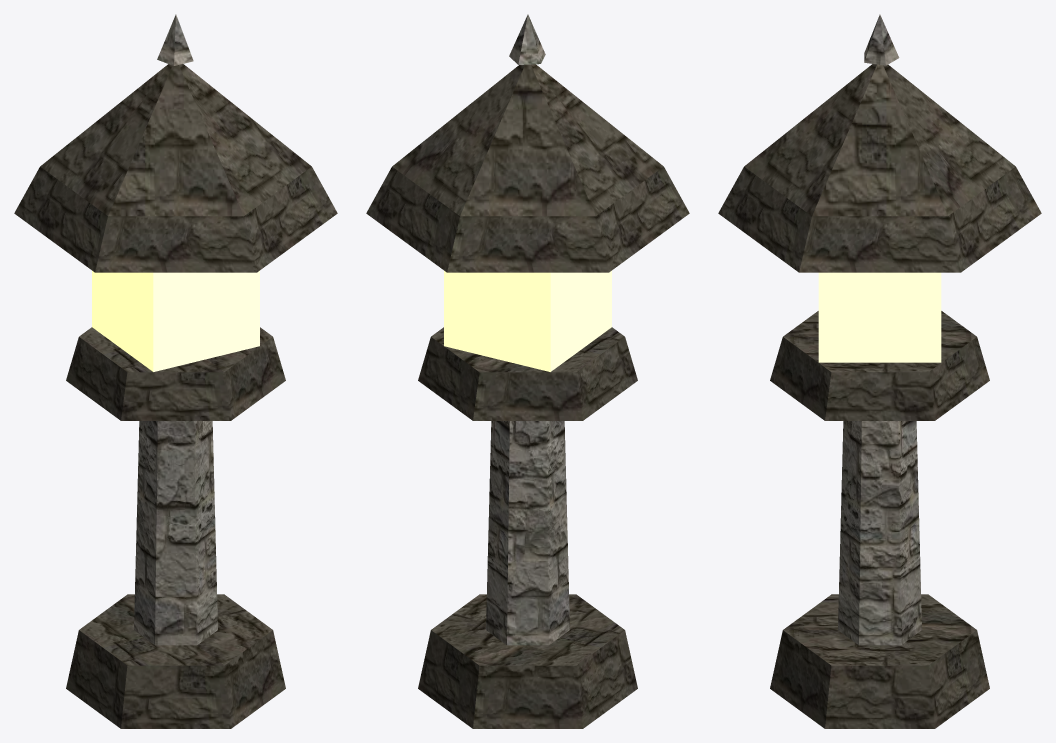
The model's file is stone_lantern_01.glb.
3 renders of one model, left to right at view 1: azimuth 30°, elevation 25°; view 2: azimuth 150°, elevation 25°; view 3: azimuth 270°, elevation 25°, orthographic.
Parts seen in each view (by area): view 1: stone_lantern_01; view 2: stone_lantern_01; view 3: stone_lantern_01.
Part boxes in pixels (<box>): stone_lantern_01: <box>14,14,337,728</box>; stone_lantern_01: <box>366,14,689,728</box>; stone_lantern_01: <box>718,14,1041,728</box>.
Size of the model in its own units: 0.866 by 2.3 by 0.9999.
Materials: 3 (2 with a texture image).
